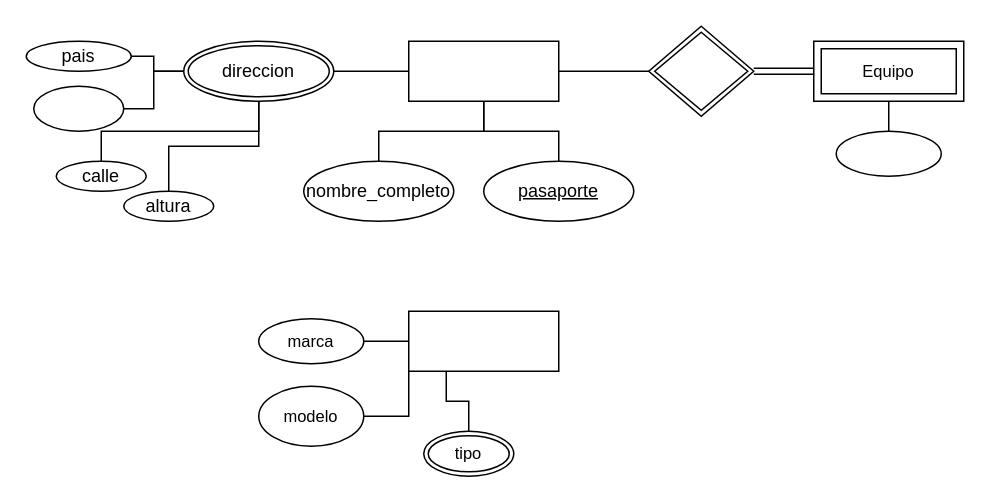
This 990x503 diagram has some shape labels left out. Here are the shapes that lost their labels. From the top down, the centre of each, then its label:
At (483,70): "Persona".
At (700,70): "simpatiza".
At (78,108): "localidad".
At (888,153): "nombre".
At (483,340): "APARATO".
